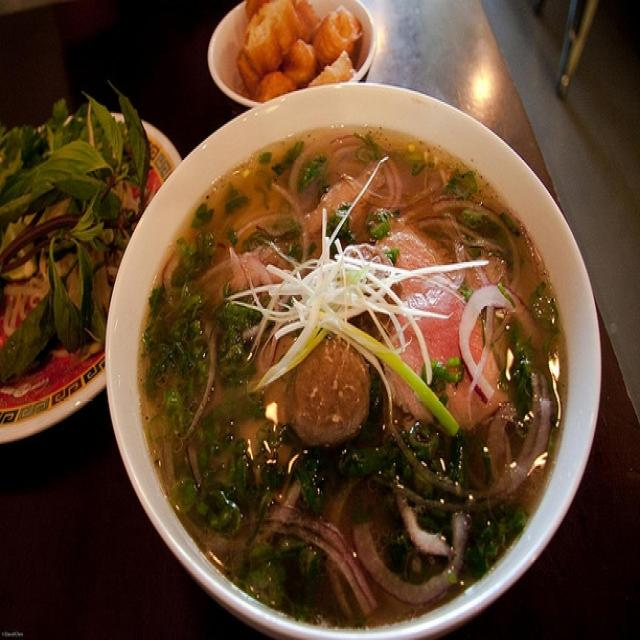面条主食: (84, 82, 599, 621)
